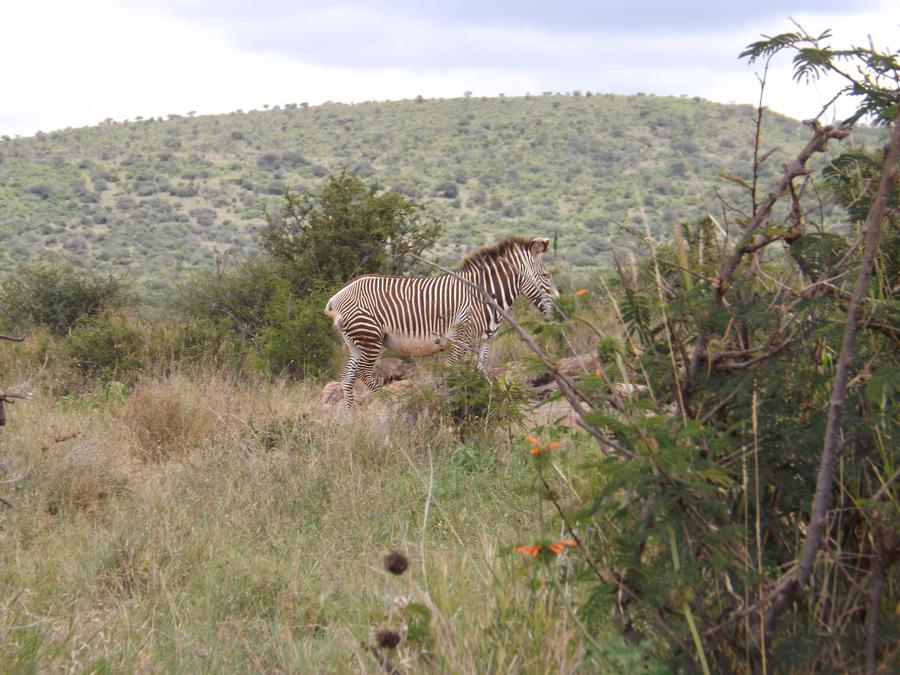zebra_grevys: (334, 272, 490, 344)
